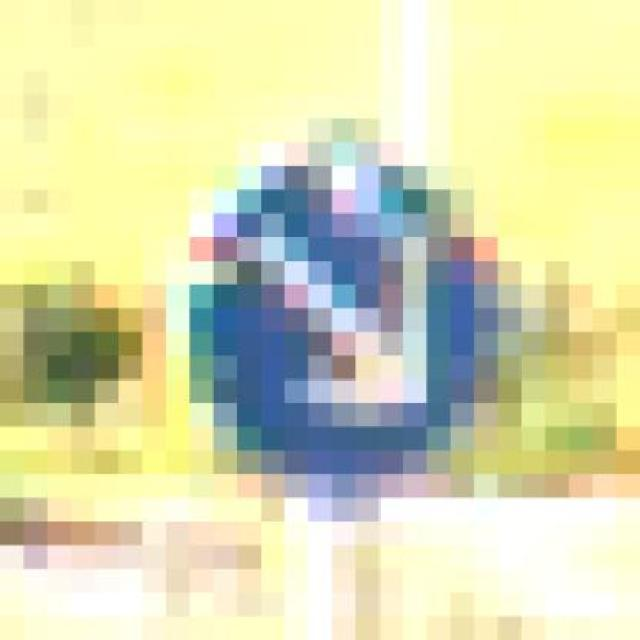Keep-Right: (165, 95, 498, 522)
